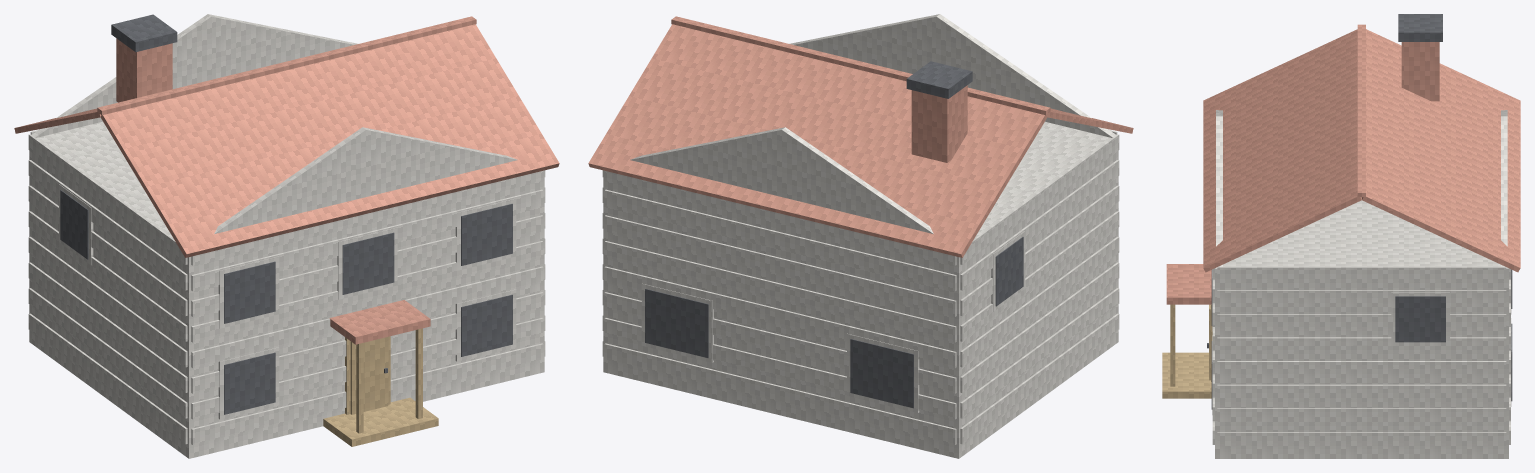
The model's file is pixel-modern-farm-modern-farmhouse-5785d490__29095.glb.
The picture shows the model from 3 angles, left to right: view 1: azimuth 30°, elevation 25°; view 2: azimuth 150°, elevation 25°; view 3: azimuth 270°, elevation 25°; orthographic projection. The views are drawn at different scales.
Visible parts, largest first — view 1: modern-farmhouse, door/oak; view 2: modern-farmhouse; view 3: modern-farmhouse.
Part boxes in pixels (bbox=[...]): modern-farmhouse: bbox=[14, 14, 559, 458]; door/oak: bbox=[345, 336, 390, 414]; modern-farmhouse: bbox=[588, 14, 1133, 458]; modern-farmhouse: bbox=[1162, 14, 1520, 458].
Size of the model in its own units: 9.48 by 8.04 by 8.53.
4 materials, 4 textured.
